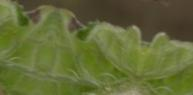Tomato leaf late blight: (28, 0, 152, 95)
